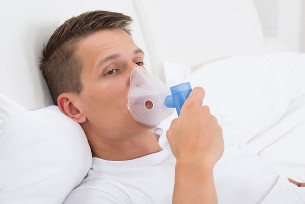Mask: (89, 47, 173, 131)
